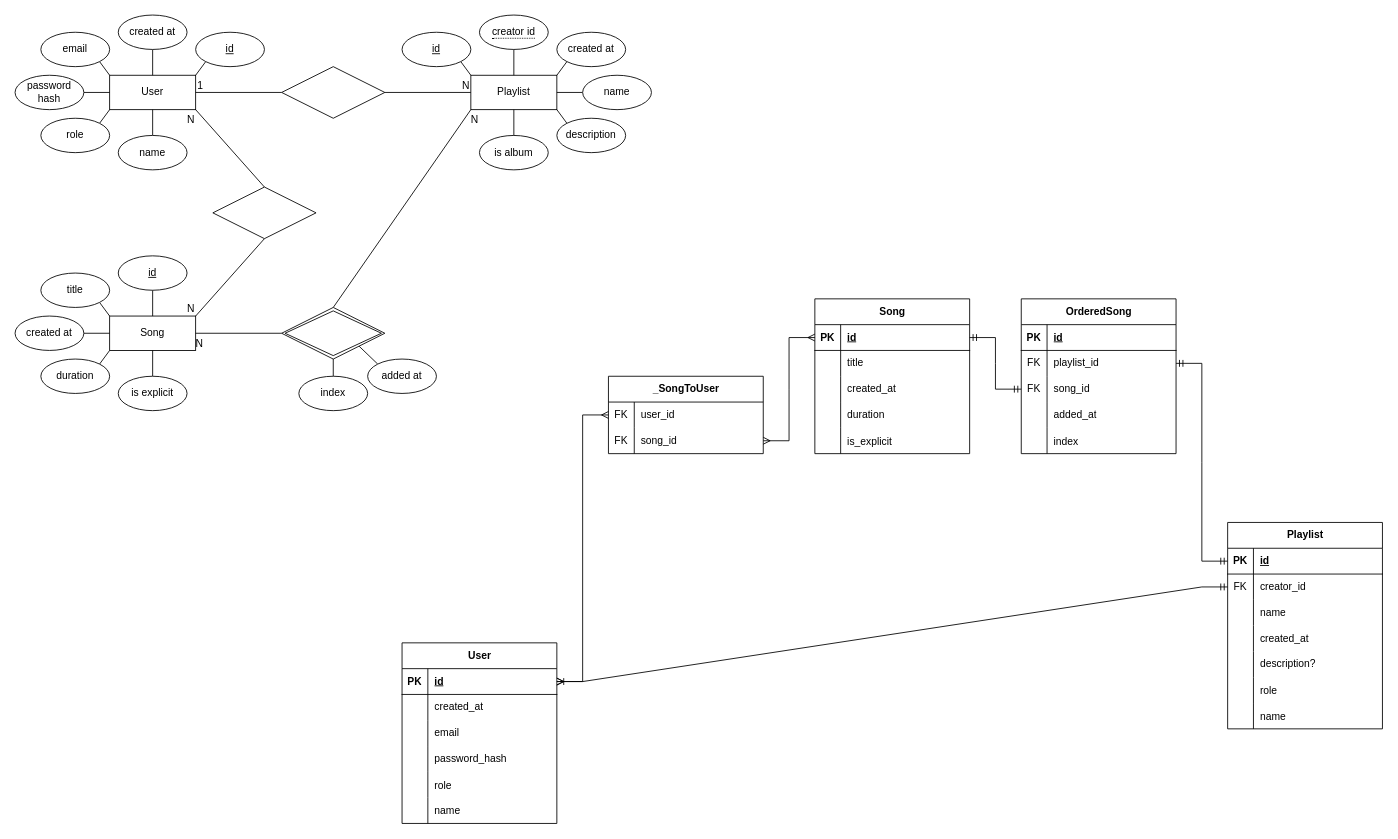
Some shapes in this 1398 by 839 pixel diagram are drawn without their labels. Each missing label, with the centre of its shape:
"contains" belongs at point 333,333.
"created" belongs at point 333,92.
"made" belongs at point 264,212.
